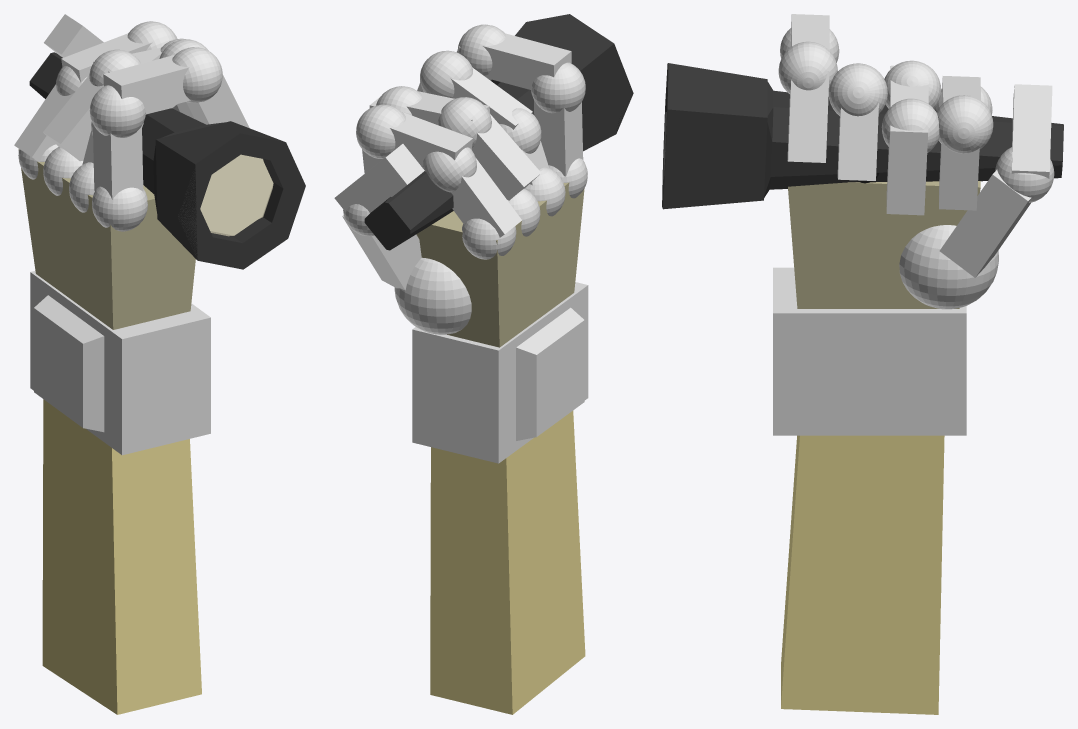
File: zaklamp met hand.fbx
3 renders of one model, left to right at view 1: azimuth 30°, elevation 25°; view 2: azimuth 150°, elevation 25°; view 3: azimuth 270°, elevation 25°, orthographic. The views are drawn at different scales.
Parts seen in each view (by area): view 1: Cube.010, Cube.001, Cube, Cube.017, Cube.018, Cube.009, Cube.004, Cube.002, Sphere.008, Sphere.004, Sphere.013, Cube.016 (+9 smaller); view 2: Cube.010, Cube.017, Cube, Cube.001, Cube.018, Sphere, Cube.009, Cube.002, Cube.011, Cube.016, Cube.004, Cube.006 (+16 smaller); view 3: Cube.010, Cube.017, Cube.001, Cube, Sphere, Cube.005, Cube.011, Cube.013, Cube.015, Cube.014, Sphere.010, Sphere.012 (+8 smaller).
Part boxes in pixels (x1=…): Cube.010: x1=42, y1=399, x2=201, y2=714; Cube.001: x1=29, y1=52, x2=305, y2=269; Cube: x1=18, y1=149, x2=195, y2=329; Cube.017: x1=30, y1=271, x2=210, y2=455; Cube.018: x1=34, y1=295, x2=104, y2=432; Cube.009: x1=103, y1=55, x2=190, y2=112; Cube.004: x1=93, y1=124, x2=143, y2=199; Cube.002: x1=43, y1=75, x2=103, y2=161; Sphere.008: x1=89, y1=85, x2=145, y2=137; Sphere.004: x1=92, y1=186, x2=147, y2=231; Sphere.013: x1=172, y1=47, x2=222, y2=103; Cube.016: x1=14, y1=84, x2=74, y2=161; Cube.010: x1=430, y1=410, x2=585, y2=714; Cube.017: x1=412, y1=282, x2=588, y2=463; Cube: x1=416, y1=182, x2=584, y2=347; Cube.001: x1=364, y1=14, x2=633, y2=250; Cube.018: x1=516, y1=307, x2=584, y2=440; Sphere: x1=394, y1=257, x2=471, y2=334; Cube.009: x1=483, y1=33, x2=571, y2=89; Cube.002: x1=472, y1=114, x2=540, y2=200; Cube.011: x1=334, y1=144, x2=424, y2=212; Cube.016: x1=451, y1=158, x2=521, y2=237; Cube.004: x1=533, y1=99, x2=583, y2=176; Cube.006: x1=390, y1=112, x2=472, y2=166; Cube.010: x1=781, y1=435, x2=944, y2=714; Cube.017: x1=773, y1=267, x2=966, y2=435; Cube.001: x1=662, y1=63, x2=1063, y2=209; Cube: x1=788, y1=181, x2=980, y2=308; Sphere: x1=899, y1=225, x2=998, y2=309; Cube.005: x1=939, y1=169, x2=1031, y2=277; Cube.011: x1=1011, y1=84, x2=1052, y2=178; Cube.013: x1=886, y1=125, x2=928, y2=215; Cube.015: x1=787, y1=71, x2=829, y2=162; Cube.014: x1=837, y1=102, x2=878, y2=180; Sphere.010: x1=936, y1=95, x2=993, y2=153; Sphere.012: x1=828, y1=63, x2=887, y2=116.
Bounding box in the file's own units: 212 × 768 × 415.
